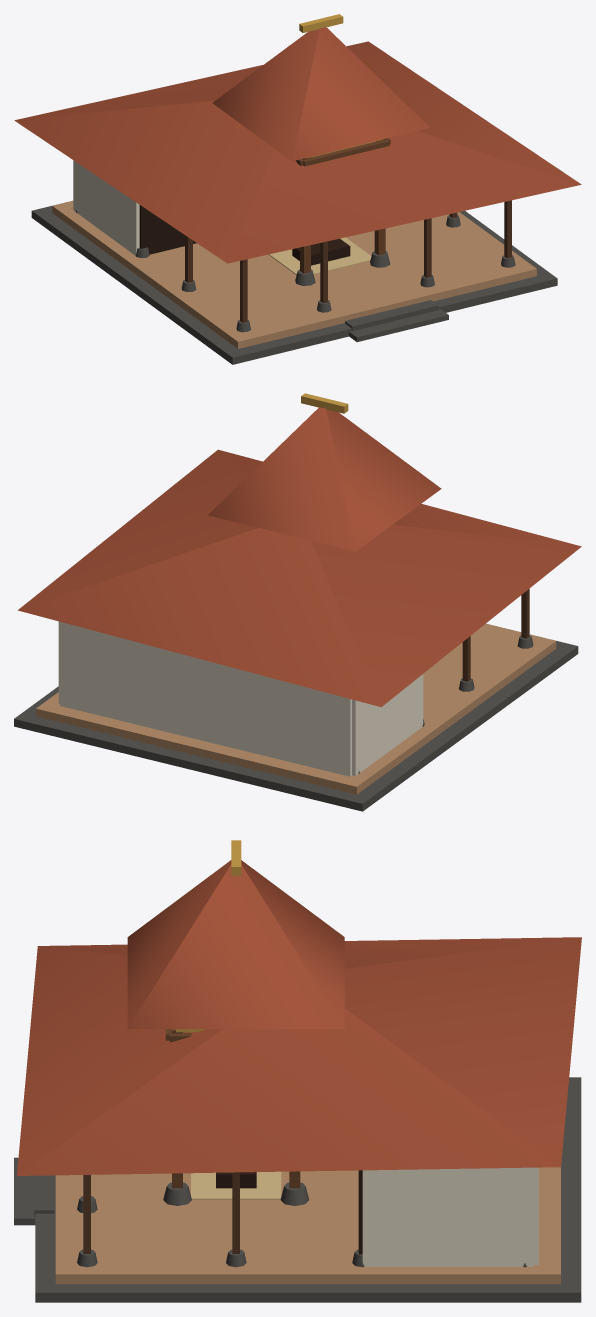
Rendered from rumah-ndalem.glb.
3 views of the same model, one above another, from view 1: azimuth 30°, elevation 25°; view 2: azimuth 150°, elevation 25°; view 3: azimuth 270°, elevation 25° (orthographic). The views are drawn at different scales.
Parts seen in each view (by area): view 1: ROOF_PENANGGAP, FLOOR_SYSTEM, ROOF_BRUNJUNG, WALL_SYSTEM, SOKO_GURU, UMPAK, PENDOPO_TIKAR, TUMPANG_SARI, PENDOPO_LOW_TABLE; view 2: ROOF_PENANGGAP, WALL_SYSTEM, FLOOR_SYSTEM, ROOF_BRUNJUNG, SOKO_GURU; view 3: ROOF_PENANGGAP, FLOOR_SYSTEM, ROOF_BRUNJUNG, WALL_SYSTEM, UMPAK, PENDOPO_TIKAR, SOKO_GURU.
Part boxes in pixels (x1=…): ROOF_PENANGGAP: x1=14, y1=41, x2=581, y2=263; FLOOR_SYSTEM: x1=31, y1=200, x2=557, y2=364; ROOF_BRUNJUNG: x1=212, y1=14, x2=429, y2=161; WALL_SYSTEM: x1=73, y1=160, x2=196, y2=255; SOKO_GURU: x1=185, y1=138, x2=511, y2=322; UMPAK: x1=76, y1=210, x2=515, y2=332; PENDOPO_TIKAR: x1=268, y1=237, x2=371, y2=274; TUMPANG_SARI: x1=296, y1=138, x2=390, y2=166; PENDOPO_LOW_TABLE: x1=292, y1=238, x2=350, y2=265; ROOF_PENANGGAP: x1=17, y1=449, x2=581, y2=707; WALL_SYSTEM: x1=58, y1=621, x2=423, y2=776; FLOOR_SYSTEM: x1=14, y1=623, x2=578, y2=811; ROOF_BRUNJUNG: x1=208, y1=393, x2=441, y2=551; SOKO_GURU: x1=462, y1=589, x2=529, y2=681; ROOF_PENANGGAP: x1=17, y1=937, x2=581, y2=1175; FLOOR_SYSTEM: x1=14, y1=1077, x2=581, y2=1302; ROOF_BRUNJUNG: x1=127, y1=840, x2=344, y2=1028; WALL_SYSTEM: x1=358, y1=1167, x2=538, y2=1266; UMPAK: x1=77, y1=1182, x2=526, y2=1267; PENDOPO_TIKAR: x1=191, y1=1171, x2=281, y2=1199; SOKO_GURU: x1=83, y1=1029, x2=300, y2=1253.
Size of what is drawn, in the model's own units: 12.52 by 8.34 by 12.59.
